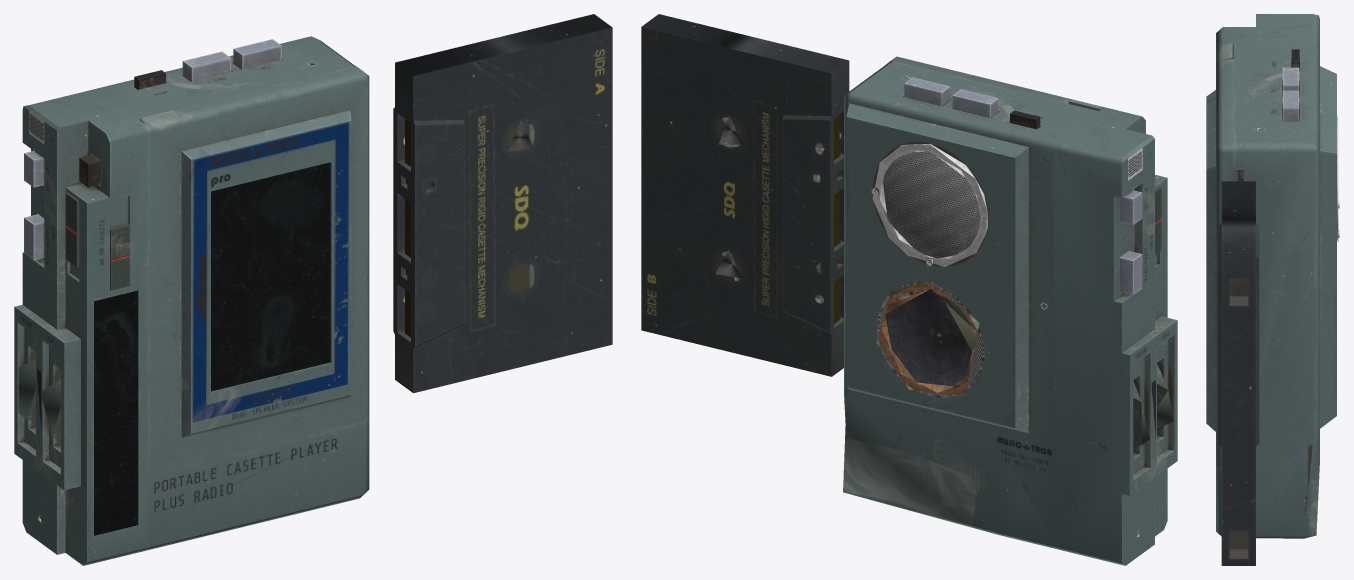
File: portable_cassette_player.glb
The picture shows the model from 3 angles, left to right: view 1: azimuth 30°, elevation 25°; view 2: azimuth 150°, elevation 25°; view 3: azimuth 270°, elevation 25°; orthographic projection. The views are drawn at different scales.
Visible parts, largest first — view 1: portable_cassette_player_lid; view 2: portable_cassette_player_lid; view 3: portable_cassette_player_lid.
Part boxes in pixels (x1,y1,x2,y2): portable_cassette_player_lid: [14, 14, 612, 565]; portable_cassette_player_lid: [641, 14, 1177, 565]; portable_cassette_player_lid: [1206, 14, 1339, 565].
Size of the model in its own units: 0.171 by 0.1303 by 0.0386.
Materials: 2 (2 with a texture image).
